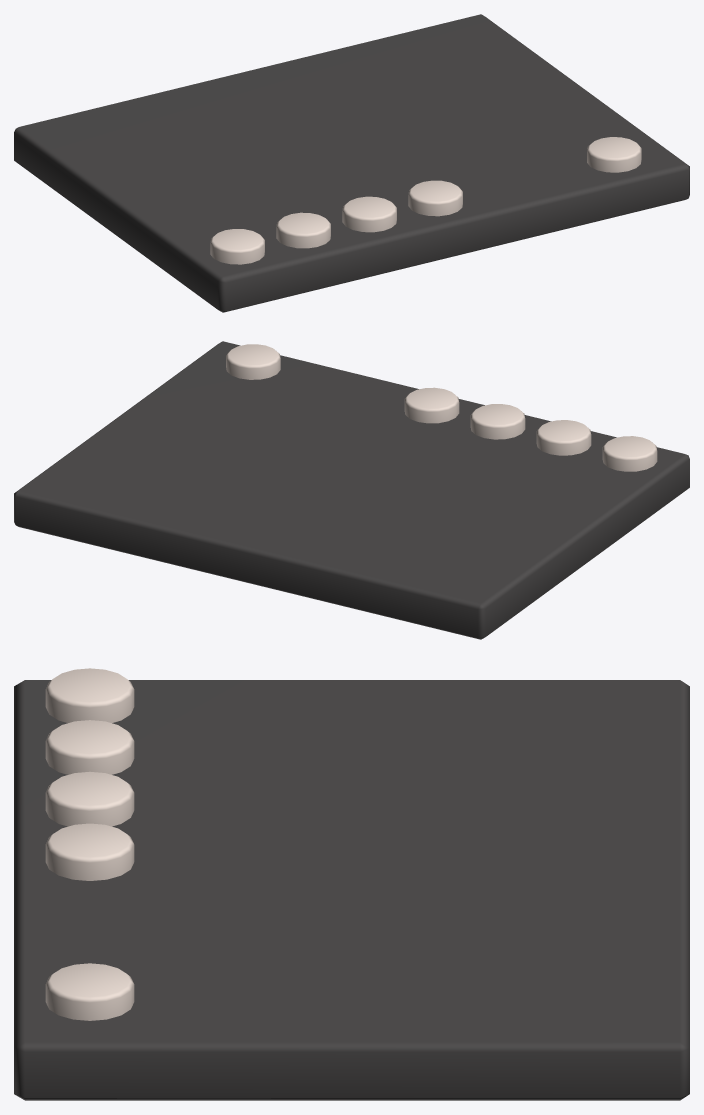
Rendered from Electronic_stove_1.glb.
3 views of the same model, one above another, from view 1: azimuth 30°, elevation 25°; view 2: azimuth 150°, elevation 25°; view 3: azimuth 270°, elevation 25° (orthographic). The views are drawn at different scales.
Parts seen in each view (by area): view 1: Electronic_stove_1; view 2: Electronic_stove_1; view 3: Electronic_stove_1.
Part boxes in pixels (x1,y1,x2,y2): Electronic_stove_1: (14,14,689,312); Electronic_stove_1: (14,341,689,639); Electronic_stove_1: (14,668,689,1100).
Size of the model in its own units: 0.8579 by 0.0872 by 0.6631.
Materials: 1 (1 with a texture image).
